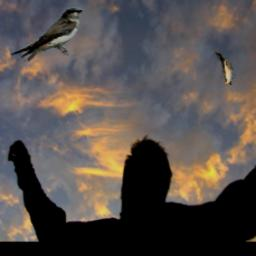Cuckoo: (216, 50, 234, 86)
Swallow: (10, 7, 83, 62)
